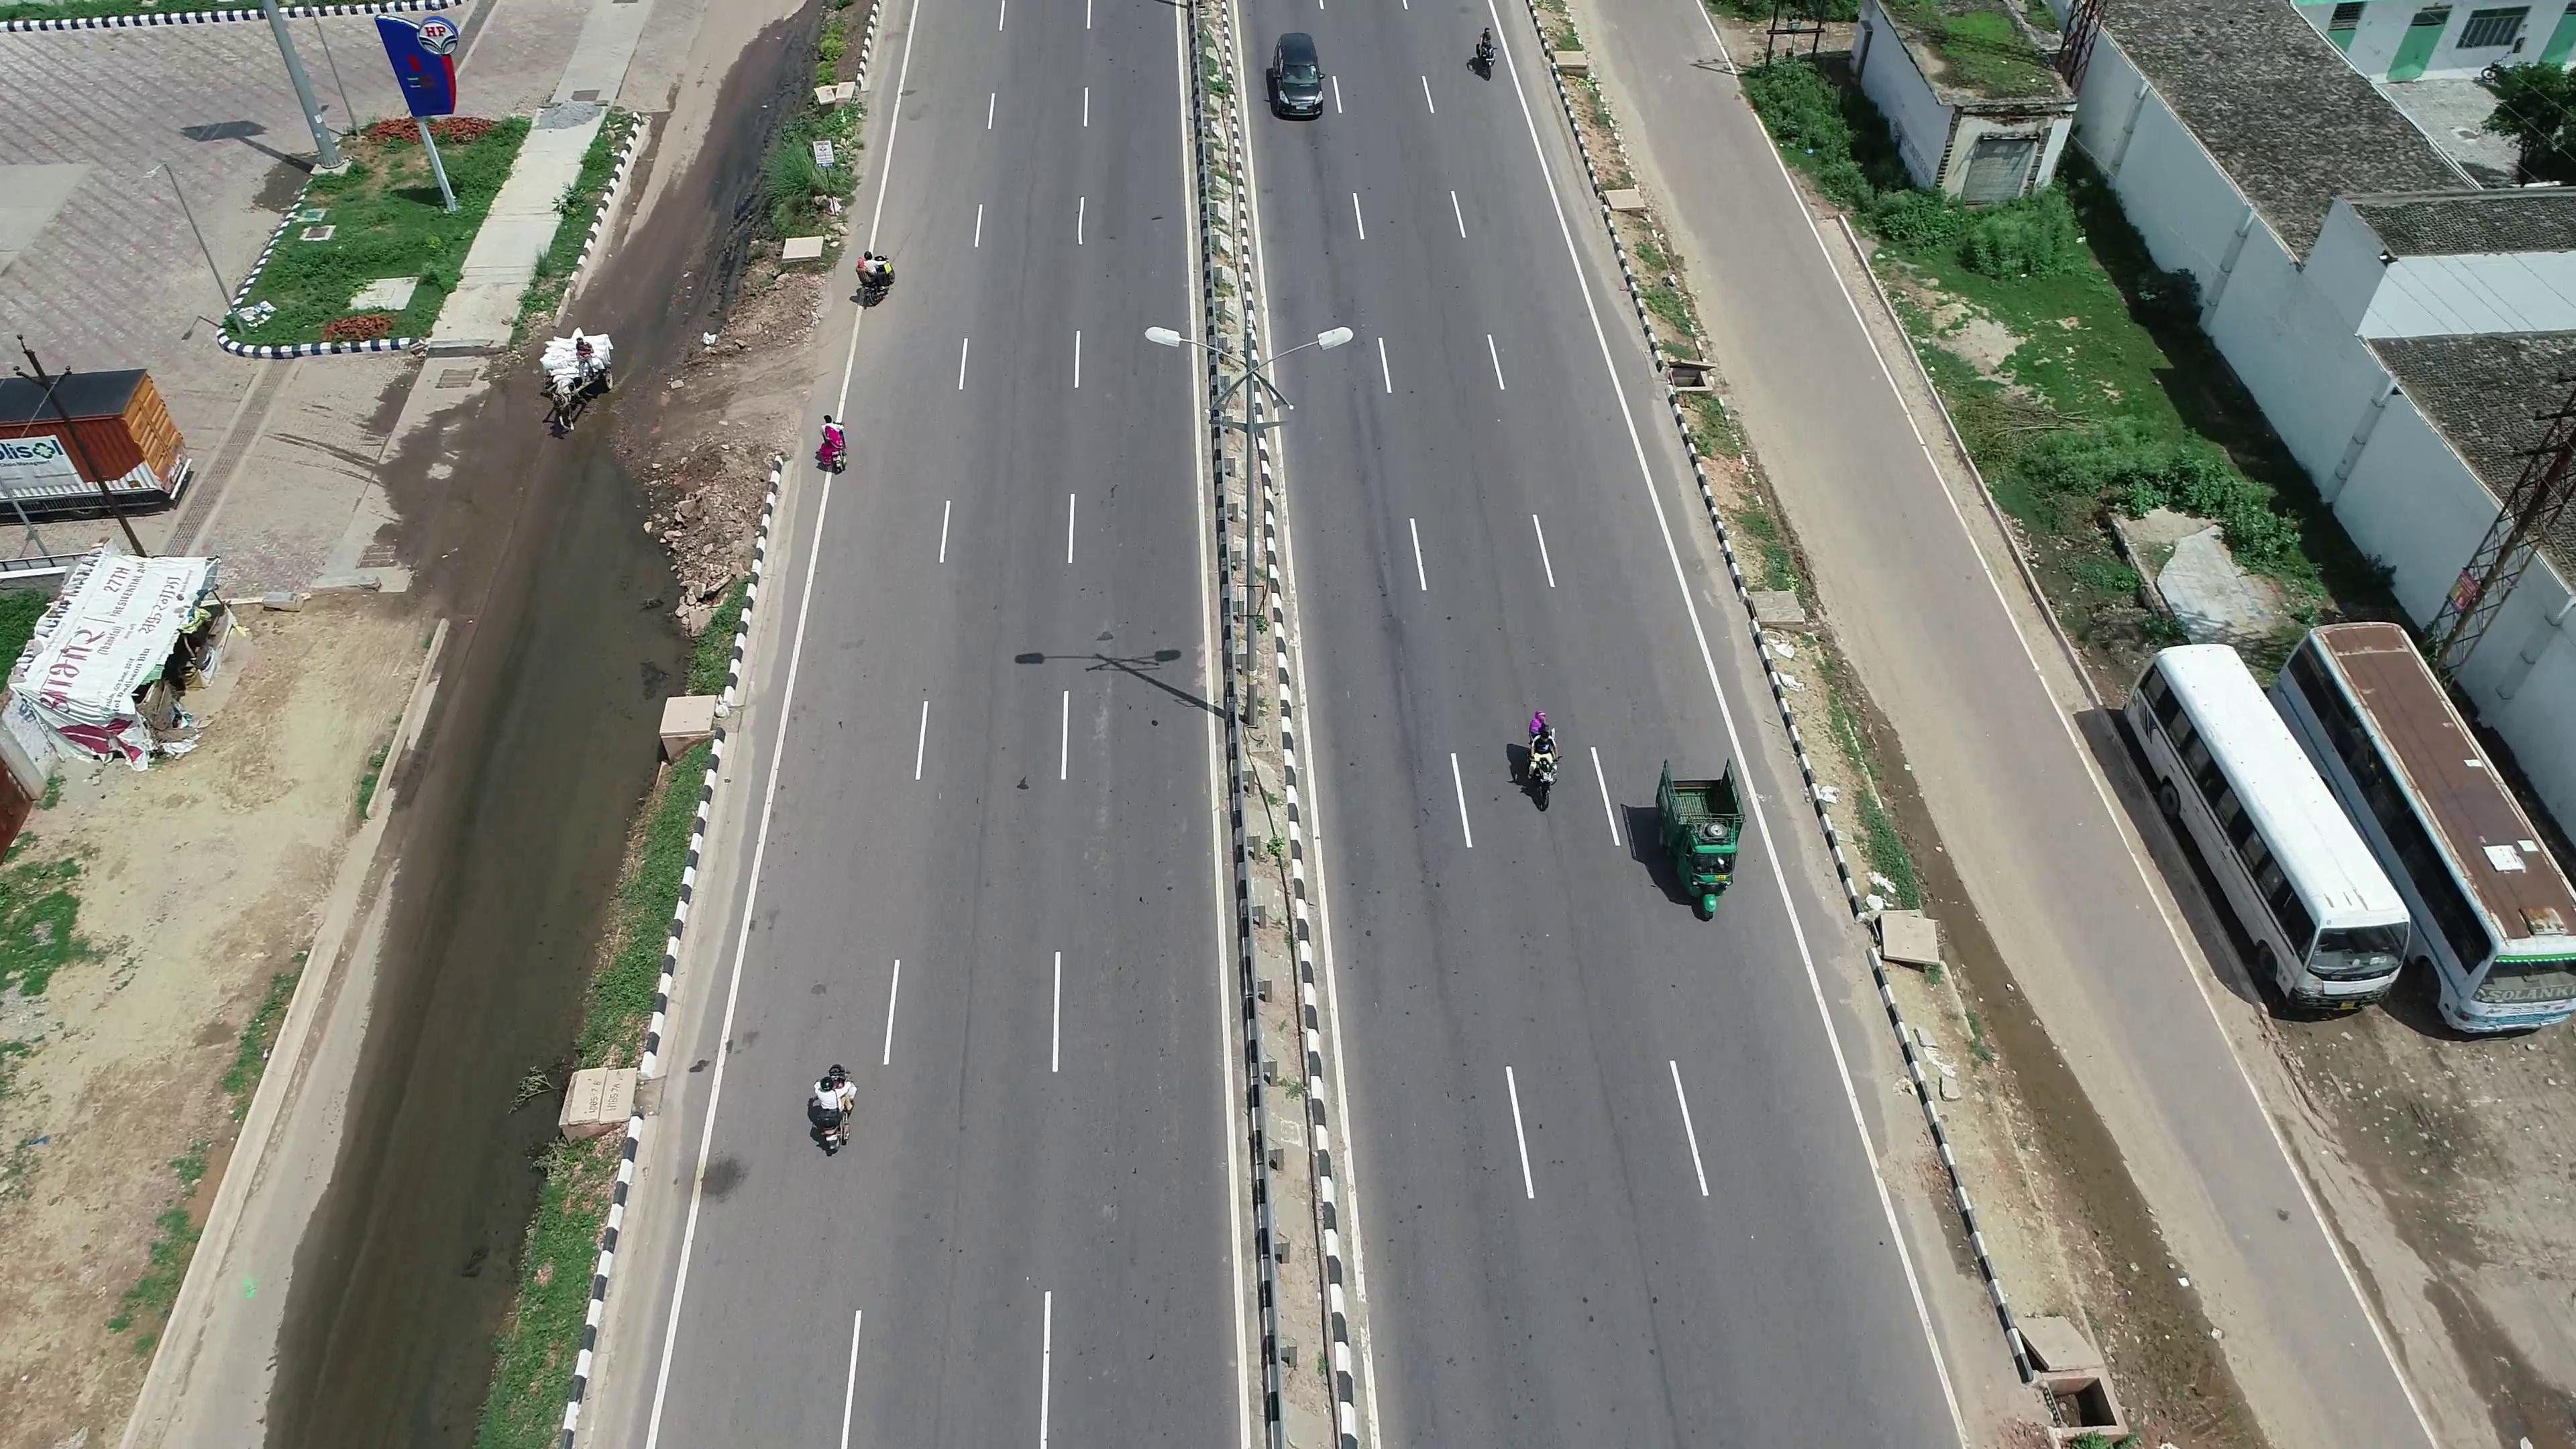Waterlogging: (292, 773, 596, 1376), (479, 508, 648, 740)
